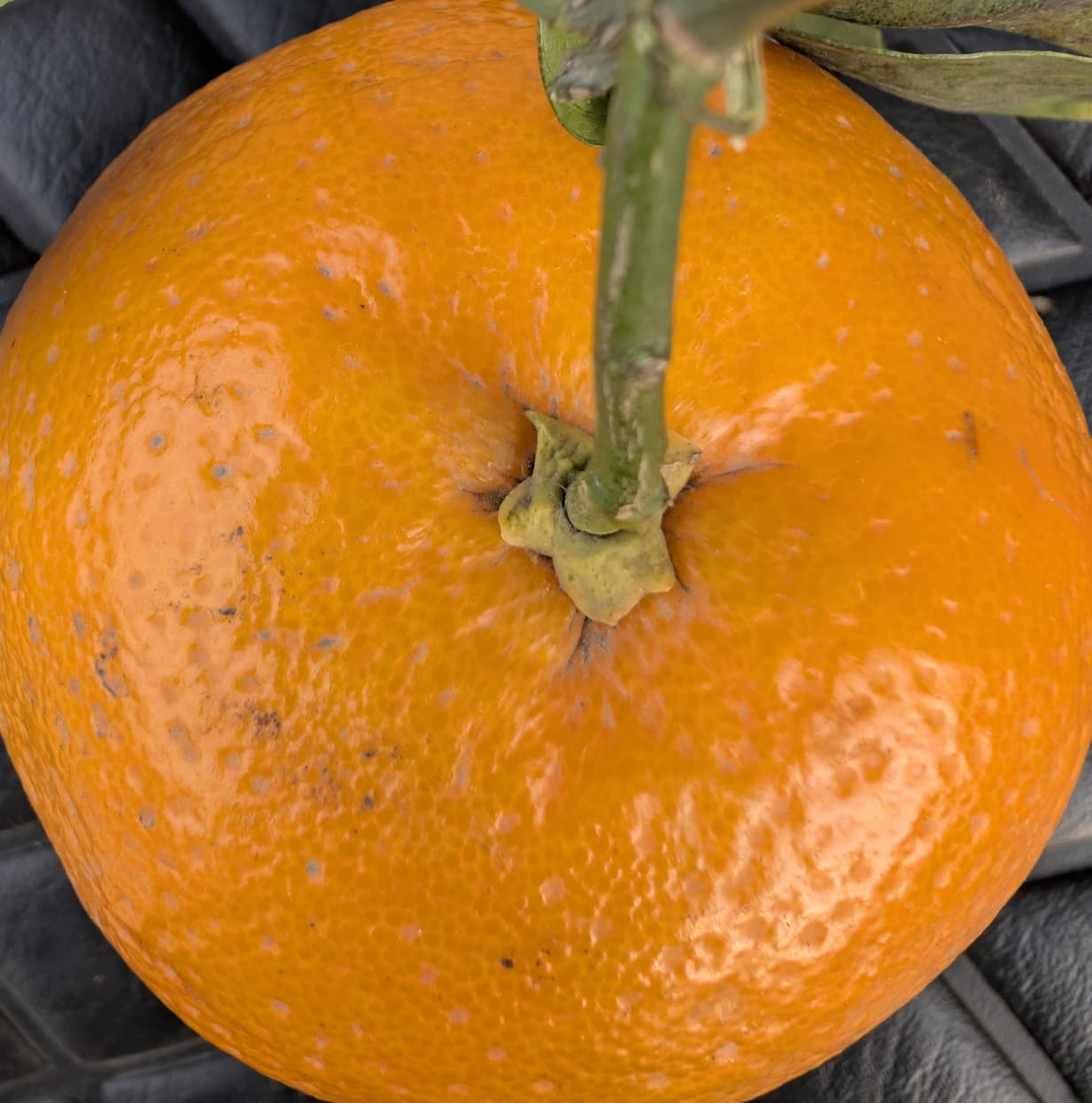orange: (111, 12, 1000, 953)
